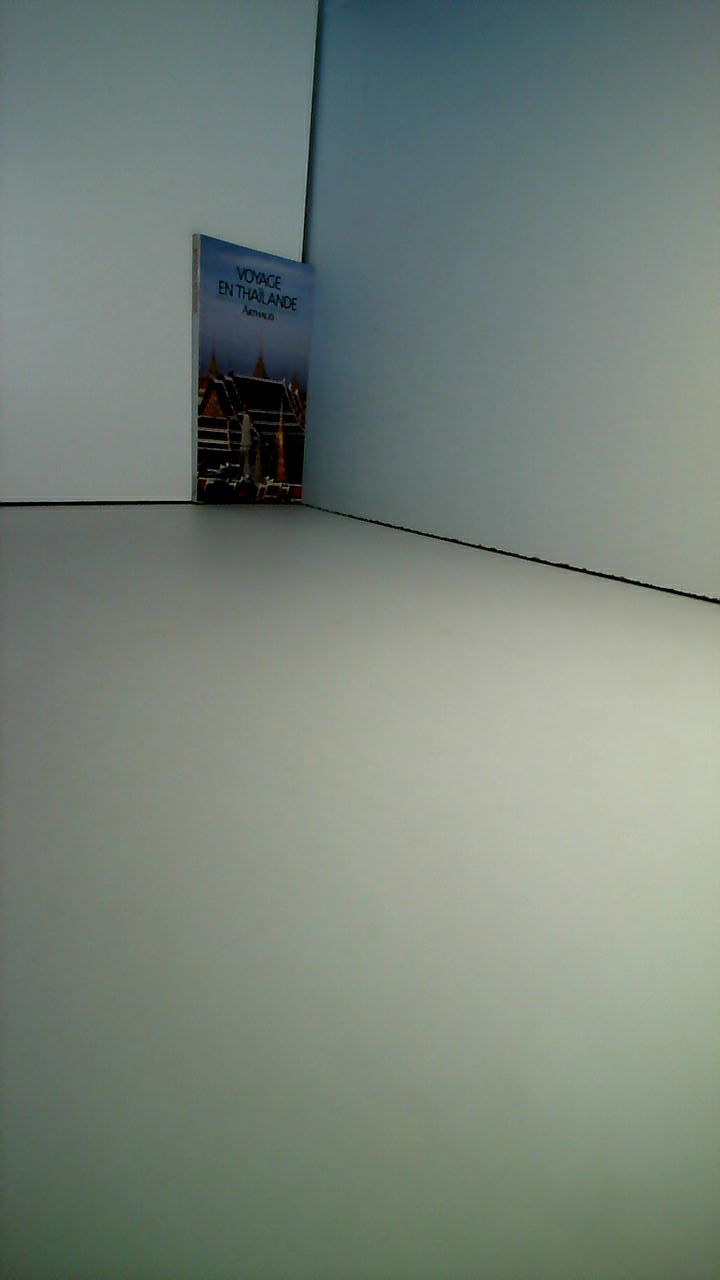book: (171, 215, 338, 535)
